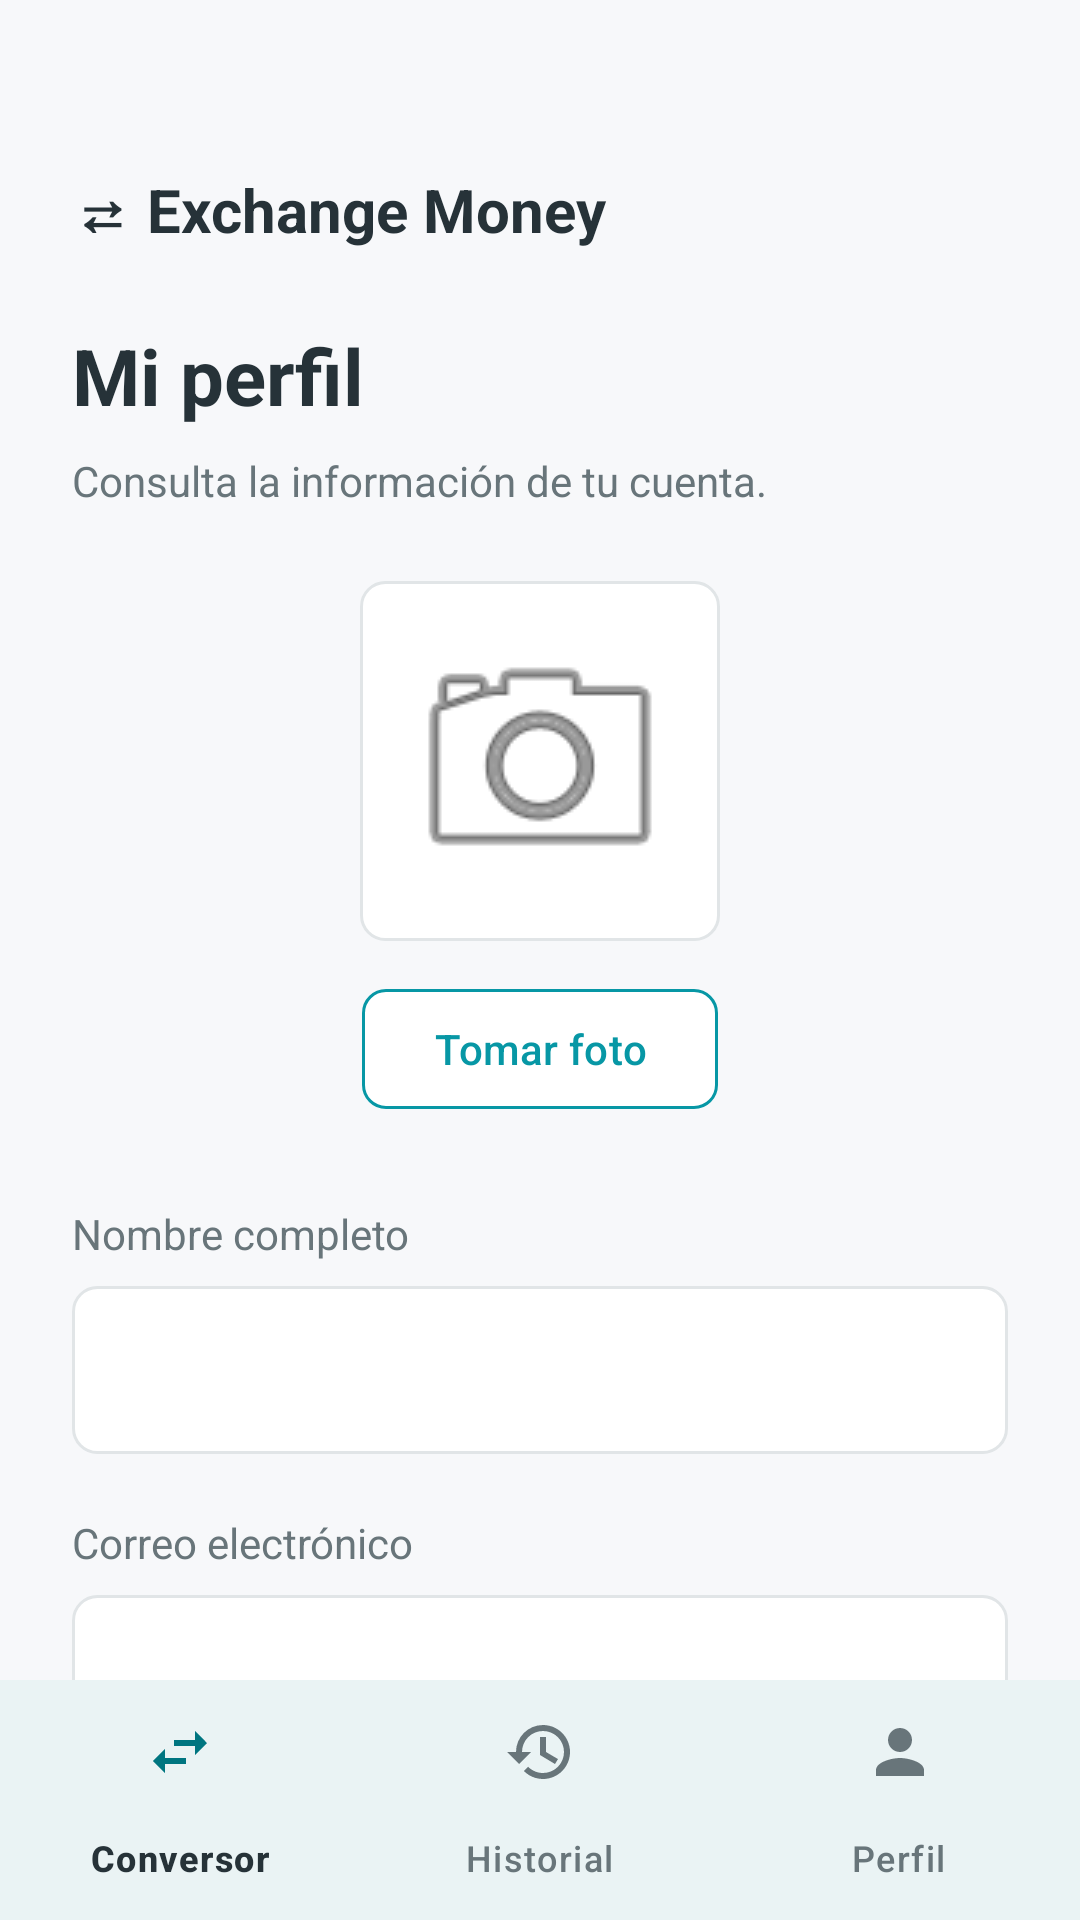

Where icons sit on this 1080w x 1920h app screen, as (x1, y1, x2, y2):
Fotografía del perfil: (429, 668, 651, 845)
